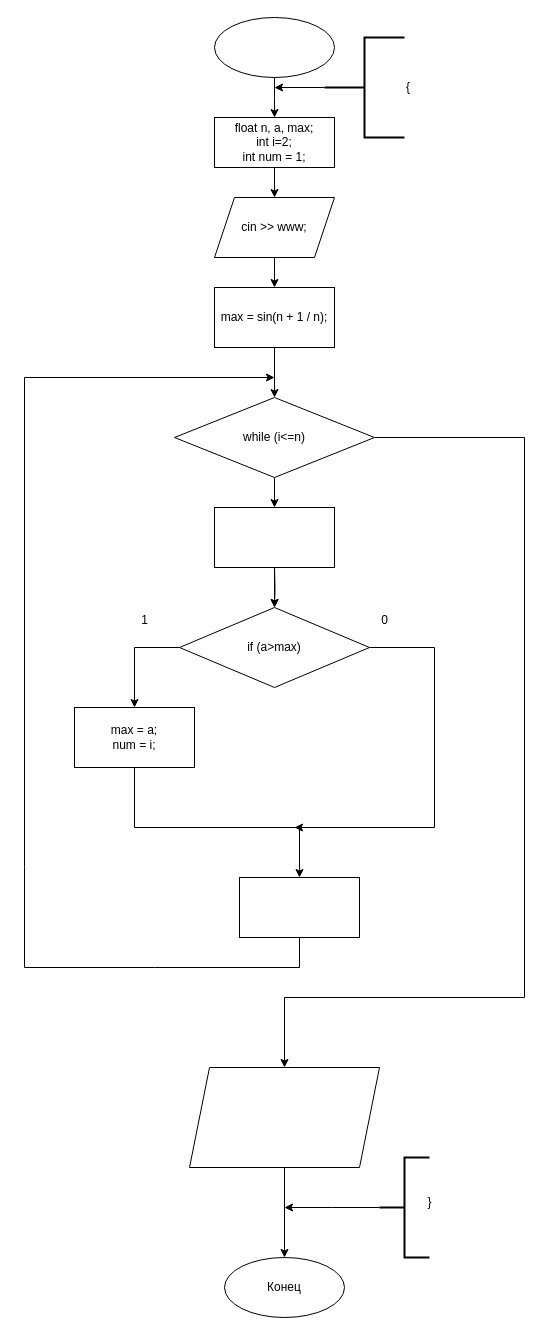
Some shapes in this 550 by 1335 pixel diagram are drawn without their labels. The shapes that lost their labels are listed below. From the top down, each one's centre as x and y in pixels, then its label:
[274,47]: Начало
[274,537]: a = sin(n + i / n);
[299,907]: i++:
[284,1117]: cout << "Максимальный элемент:" <<max<<"Его номер:"<<num<< endl;
